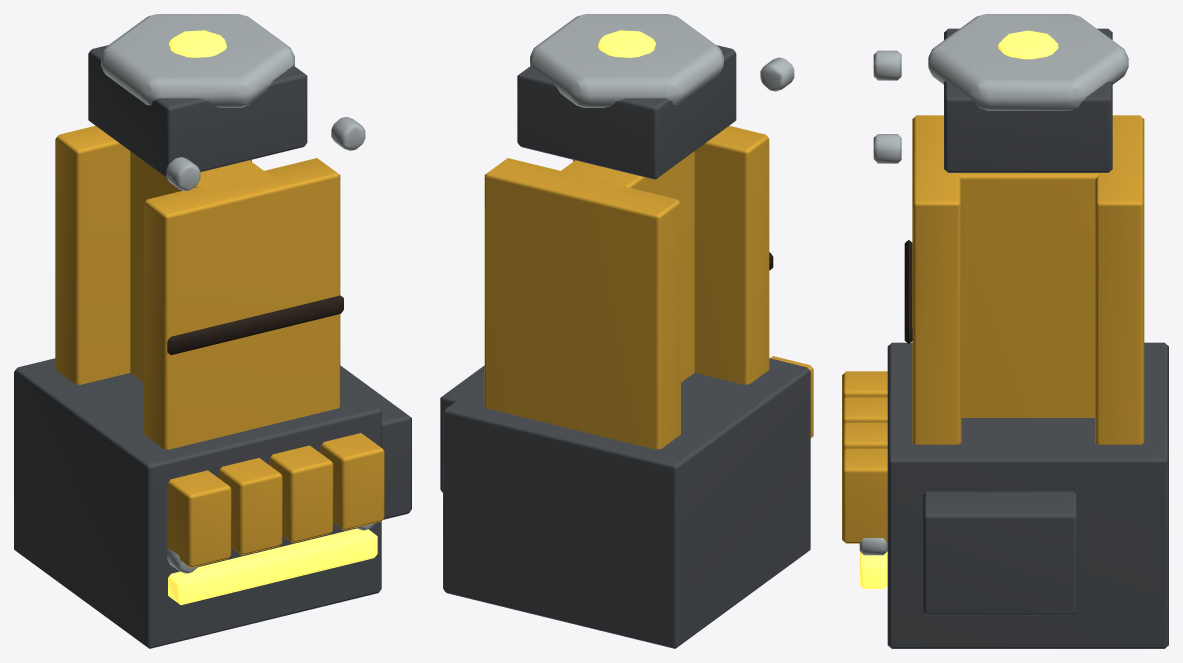
The model's file is grumble_co_girder_fist.glb.
3 views of the same model, side by side, from view 1: azimuth 30°, elevation 25°; view 2: azimuth 150°, elevation 25°; view 3: azimuth 270°, elevation 25° (orthographic). The views are drawn at different scales.
Visible parts, largest first — view 1: grumble_co_girder_fist; view 2: grumble_co_girder_fist; view 3: grumble_co_girder_fist.
Boxes of the visible parts, box(x1,y1,x2,y2) form: grumble_co_girder_fist: box(14, 14, 411, 648); grumble_co_girder_fist: box(440, 14, 813, 648); grumble_co_girder_fist: box(842, 14, 1168, 648).
Size of the model in its own units: 0.48 by 0.8625 by 0.465.
Materials: 1 (1 with a texture image).
